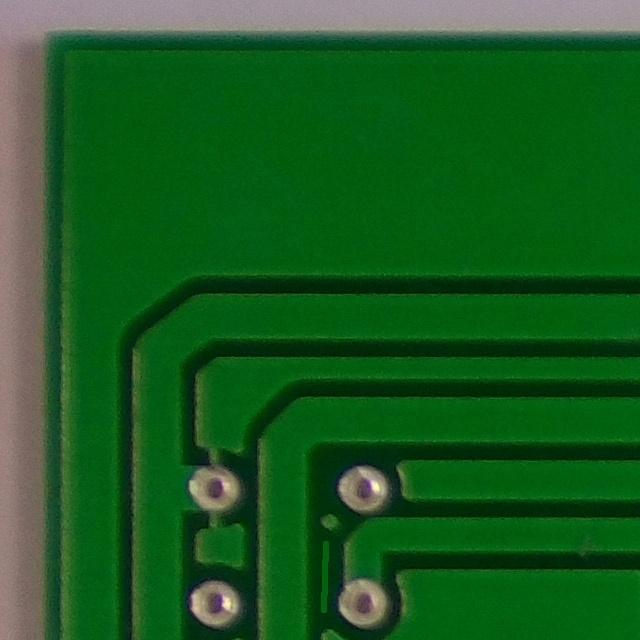spurious_copper: (309, 530, 346, 628)
